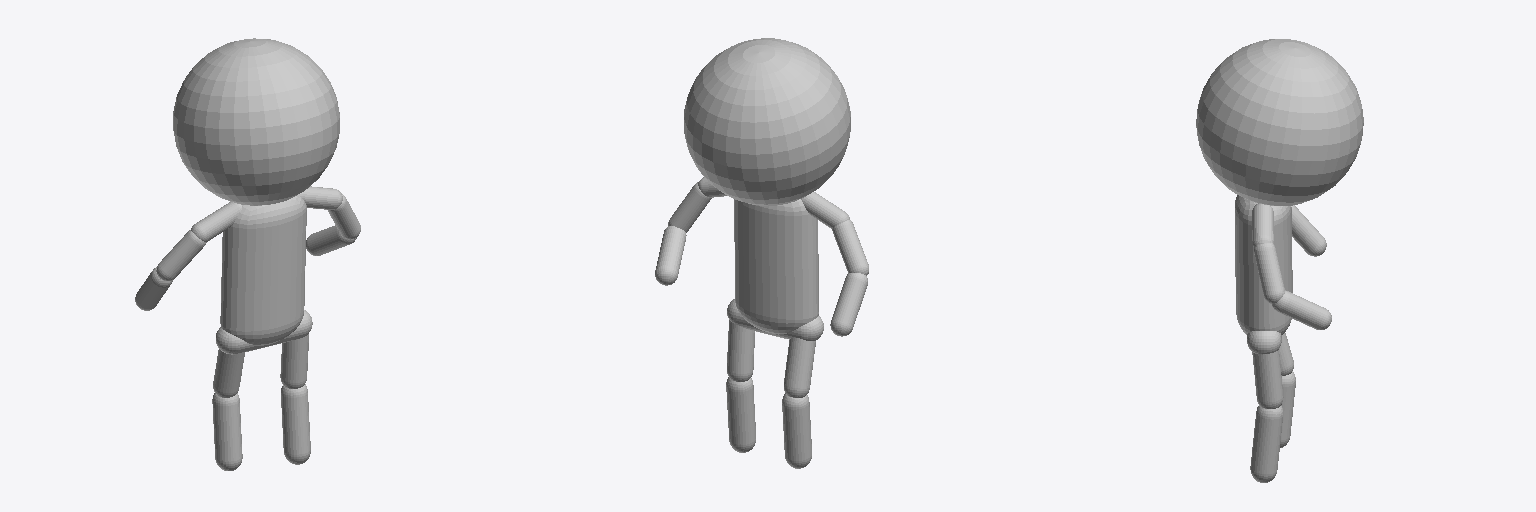
Rendered from Stickman_000051.obj.
3 views of the same model, side by side, from view 1: azimuth 30°, elevation 25°; view 2: azimuth 150°, elevation 25°; view 3: azimuth 270°, elevation 25° (orthographic).
Parts seen in each view (by area): view 1: Head_Sphere.001, Body_Roundcube.002, LowerLegLeft_Roundcube.013, LowerLegRight_Roundcube.011, UpperLegLeft_Roundcube.012, UpperArmRight_Roundcube.015, UpperLegRight_Roundcube.010, Hip_Roundcube.005, ShoulderRight_Roundcube.014, LowerArmLeft_Roundcube.019, LowerArmRight_Roundcube.016, ShoulderLeft_Roundcube.017 (+1 smaller); view 2: Head_Sphere.001, Body_Roundcube.002, LowerLegRight_Roundcube.011, LowerLegLeft_Roundcube.013, UpperLegRight_Roundcube.010, LowerArmRight_Roundcube.016, UpperLegLeft_Roundcube.012, LowerArmLeft_Roundcube.019, UpperArmRight_Roundcube.015, UpperArmLeft_Roundcube.018, Hip_Roundcube.005, ShoulderRight_Roundcube.014; view 3: Head_Sphere.001, Body_Roundcube.002, LowerLegLeft_Roundcube.013, UpperLegLeft_Roundcube.012, UpperArmLeft_Roundcube.018, LowerArmLeft_Roundcube.019, LowerArmRight_Roundcube.016, ShoulderLeft_Roundcube.017, LowerLegRight_Roundcube.011, Hip_Roundcube.005.
Boxes of the visible parts, x1=… form: Head_Sphere.001: x1=173, y1=38, x2=339, y2=205; Body_Roundcube.002: x1=220, y1=195, x2=306, y2=345; LowerLegLeft_Roundcube.013: x1=281, y1=384, x2=310, y2=464; LowerLegRight_Roundcube.011: x1=212, y1=393, x2=242, y2=470; UpperLegLeft_Roundcube.012: x1=280, y1=334, x2=308, y2=388; UpperArmRight_Roundcube.015: x1=156, y1=230, x2=206, y2=280; UpperLegRight_Roundcube.010: x1=213, y1=349, x2=244, y2=397; Hip_Roundcube.005: x1=216, y1=310, x2=312, y2=354; ShoulderRight_Roundcube.014: x1=191, y1=202, x2=241, y2=241; LowerArmLeft_Roundcube.019: x1=306, y1=225, x2=356, y2=255; LowerArmRight_Roundcube.016: x1=135, y1=267, x2=172, y2=310; ShoulderLeft_Roundcube.017: x1=298, y1=186, x2=342, y2=209; Head_Sphere.001: x1=684, y1=38, x2=850, y2=205; Body_Roundcube.002: x1=734, y1=199, x2=818, y2=334; LowerLegRight_Roundcube.011: x1=782, y1=393, x2=811, y2=468; LowerLegLeft_Roundcube.013: x1=726, y1=377, x2=755, y2=452; UpperLegRight_Roundcube.010: x1=784, y1=337, x2=815, y2=397; LowerArmRight_Roundcube.016: x1=830, y1=273, x2=867, y2=336; UpperLegLeft_Roundcube.012: x1=727, y1=320, x2=754, y2=381; LowerArmLeft_Roundcube.019: x1=655, y1=226, x2=686, y2=285; UpperArmRight_Roundcube.015: x1=832, y1=220, x2=868, y2=275; UpperArmLeft_Roundcube.018: x1=668, y1=182, x2=711, y2=232; Hip_Roundcube.005: x1=727, y1=299, x2=823, y2=340; ShoulderRight_Roundcube.014: x1=801, y1=192, x2=849, y2=228; Head_Sphere.001: x1=1196, y1=39, x2=1363, y2=205; Body_Roundcube.002: x1=1235, y1=195, x2=1292, y2=334; LowerLegLeft_Roundcube.013: x1=1250, y1=406, x2=1282, y2=482; UpperLegLeft_Roundcube.012: x1=1252, y1=350, x2=1283, y2=408; UpperArmLeft_Roundcube.018: x1=1254, y1=243, x2=1284, y2=303; LowerArmLeft_Roundcube.019: x1=1272, y1=290, x2=1331, y2=329; LowerArmRight_Roundcube.016: x1=1291, y1=205, x2=1326, y2=256; ShoulderLeft_Roundcube.017: x1=1252, y1=203, x2=1273, y2=246; LowerLegRight_Roundcube.011: x1=1280, y1=371, x2=1295, y2=447; Hip_Roundcube.005: x1=1247, y1=331, x2=1281, y2=354.
Bounding box in the file's own units: 6.1 × 12.02 × 4.36.